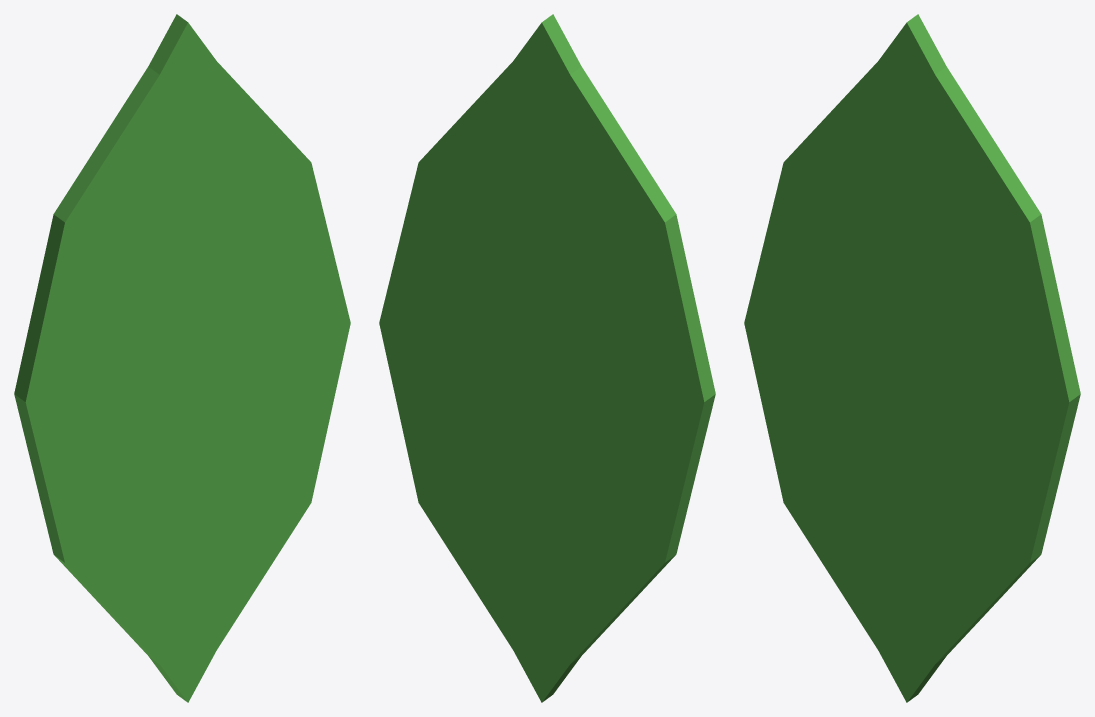
The model's file is leaf_bit.glb.
3 renders of one model, left to right at view 1: azimuth 30°, elevation 25°; view 2: azimuth 150°, elevation 25°; view 3: azimuth 330°, elevation 25°, orthographic.
Visible parts, largest first — view 1: leaf_bit; view 2: leaf_bit; view 3: leaf_bit.
Part boxes in pixels (x1,y1,x2,y2): leaf_bit: (14, 14, 350, 702); leaf_bit: (379, 14, 715, 702); leaf_bit: (744, 14, 1080, 702).
Bounding box in the file's own units: 0.09 × 0.18 × 0.0055.
